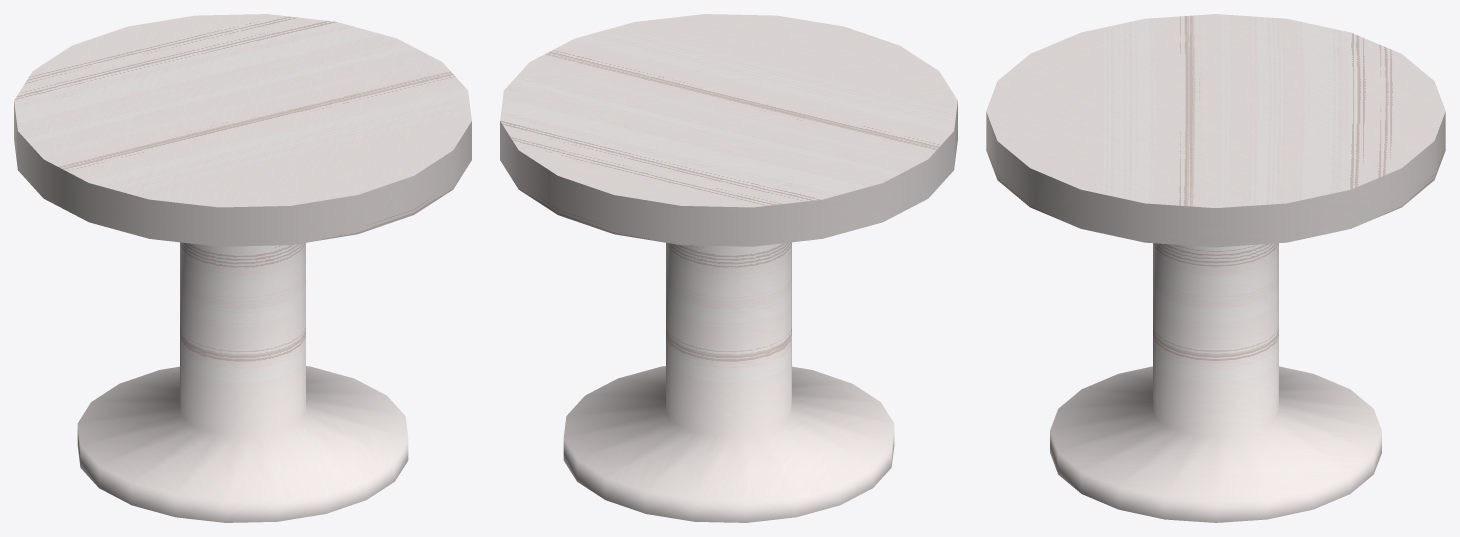
File: Fixed Round Table.fbx
3 renders of one model, left to right at view 1: azimuth 30°, elevation 25°; view 2: azimuth 150°, elevation 25°; view 3: azimuth 270°, elevation 25°, orthographic.
Visible parts, largest first — view 1: endtable_round_text:pCylinder1; view 2: endtable_round_text:pCylinder1; view 3: endtable_round_text:pCylinder1.
Boxes of the visible parts, x1=… form: endtable_round_text:pCylinder1: x1=14, y1=14, x2=471, y2=522; endtable_round_text:pCylinder1: x1=500, y1=14, x2=957, y2=522; endtable_round_text:pCylinder1: x1=986, y1=14, x2=1445, y2=522.
Size of the model in its own units: 47.56 by 39.03 by 47.56.
